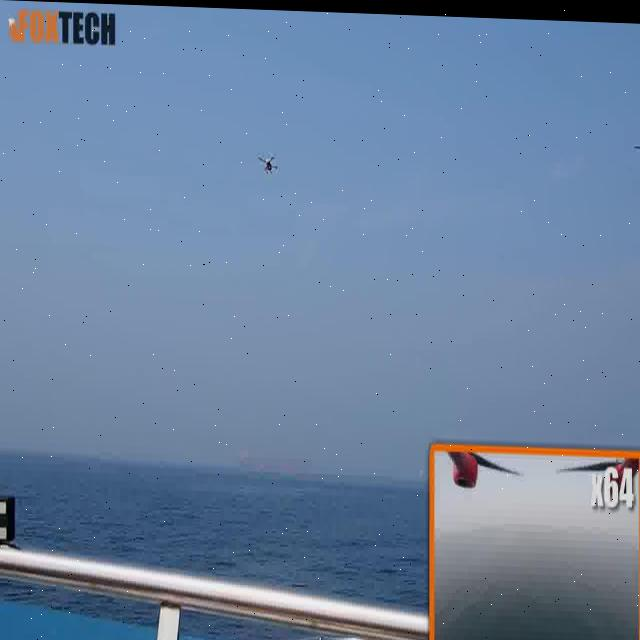drone: (240, 132, 302, 199)
